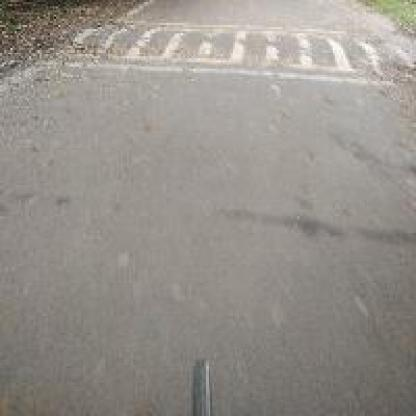Speed Bump: (27, 19, 401, 92)
